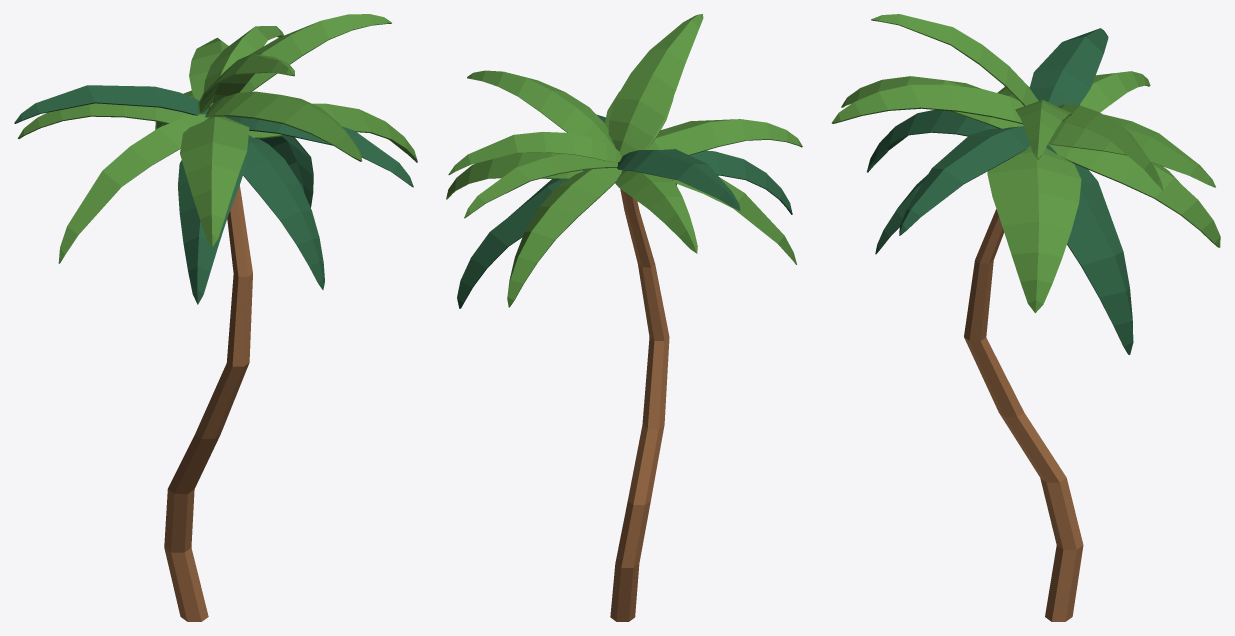
Rendered from PalmTree_1.glb.
3 views of the same model, side by side, from view 1: azimuth 30°, elevation 25°; view 2: azimuth 150°, elevation 25°; view 3: azimuth 270°, elevation 25° (orthographic). The views are drawn at different scales.
Parts seen in each view (by area): view 1: PalmTree_1_Cylinder.041; view 2: PalmTree_1_Cylinder.041; view 3: PalmTree_1_Cylinder.041.
Part boxes in pixels (x1,y1,x2,y2): PalmTree_1_Cylinder.041: (14, 14, 417, 621); PalmTree_1_Cylinder.041: (446, 14, 802, 621); PalmTree_1_Cylinder.041: (831, 14, 1220, 621).
Bounding box in the file's own units: 2.88 × 4.47 × 2.61.
